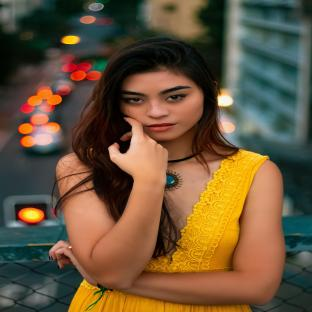Human: (49, 37, 285, 312)
